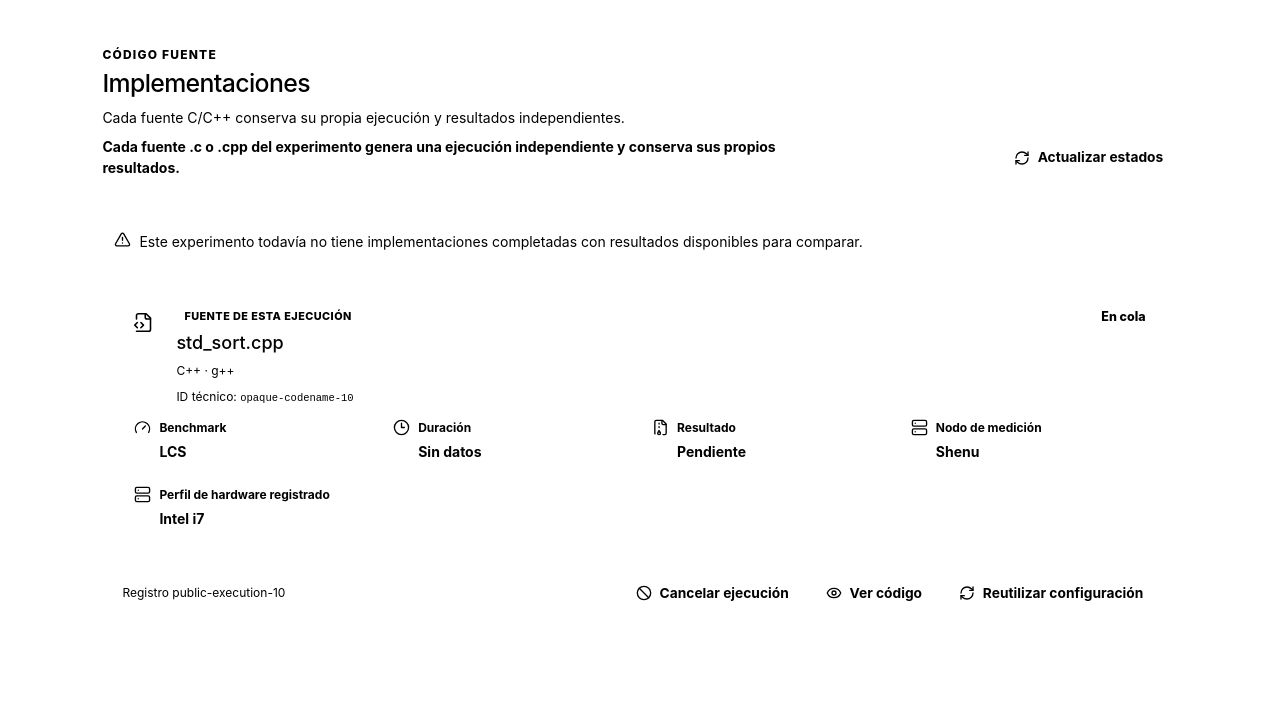
Test: SubmissionOverviewPage › a cancellation network error preserves the queued action
This screenshot has width=1280, height=720.
(page scrolled)
Click the button "Cancelar ejecución": [712, 593] box [621,573,803,613]
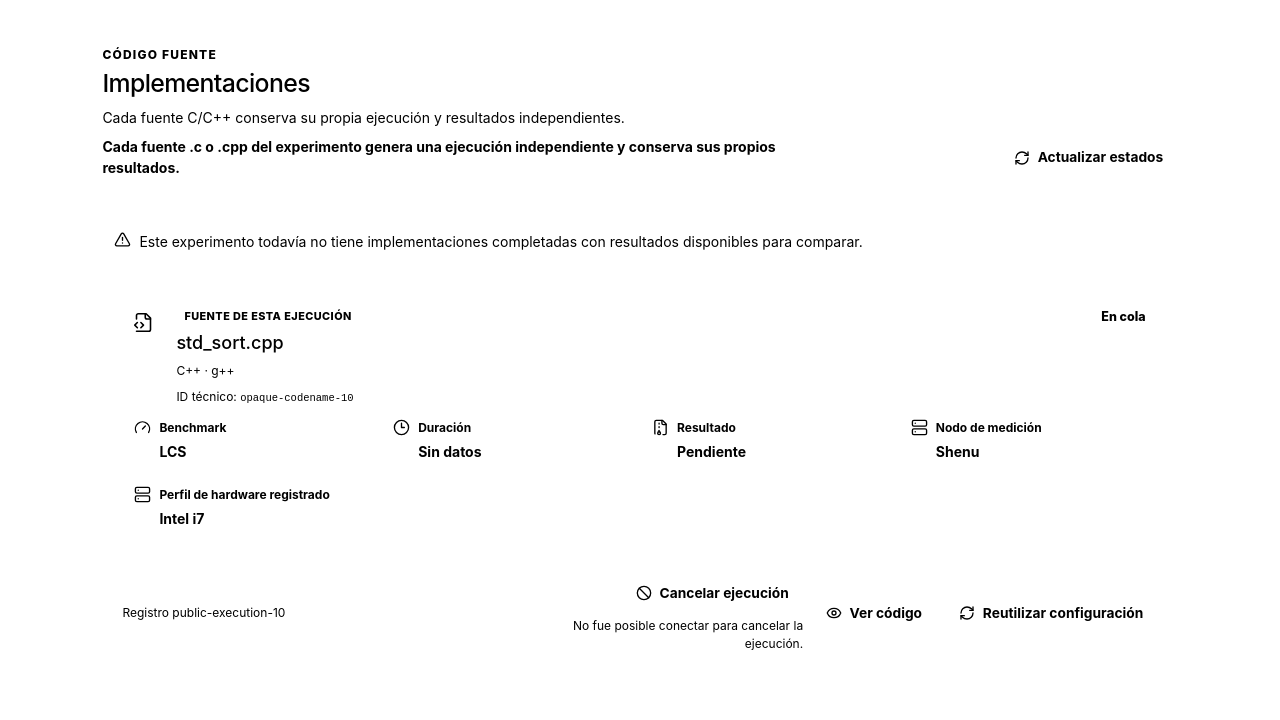
Expected: the text "No fue posible conectar para cancelar la ejecución." is shown, [547,617,803,653]
